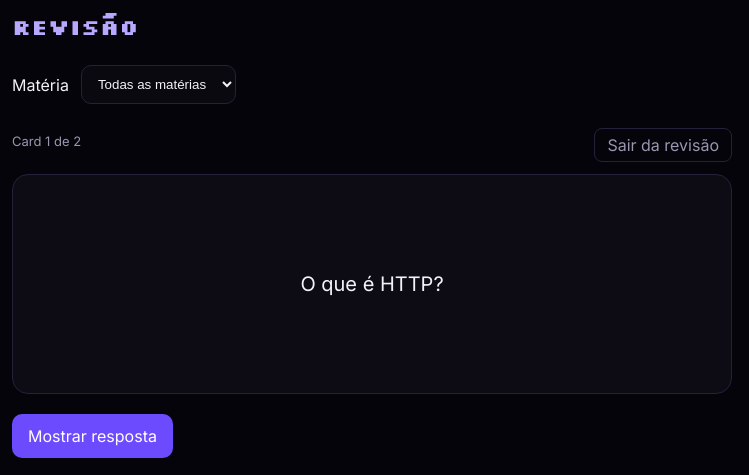
Test: ReviewPage › Sair sem responder nada mostra 0 revisados
Expected: the text "O que é HTTP?" is shown, x1=300 y1=272 x2=444 y2=296
Click the button "Sair da revisão".
click(663, 145)  # box x1=594 y1=128 x2=732 y2=162
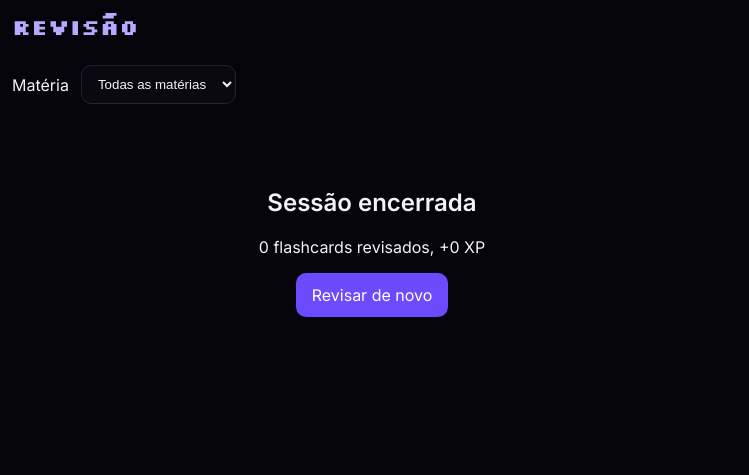
Now the text "0 flashcards revisados, +0 XP" is shown, box x1=259 y1=237 x2=485 y2=257
